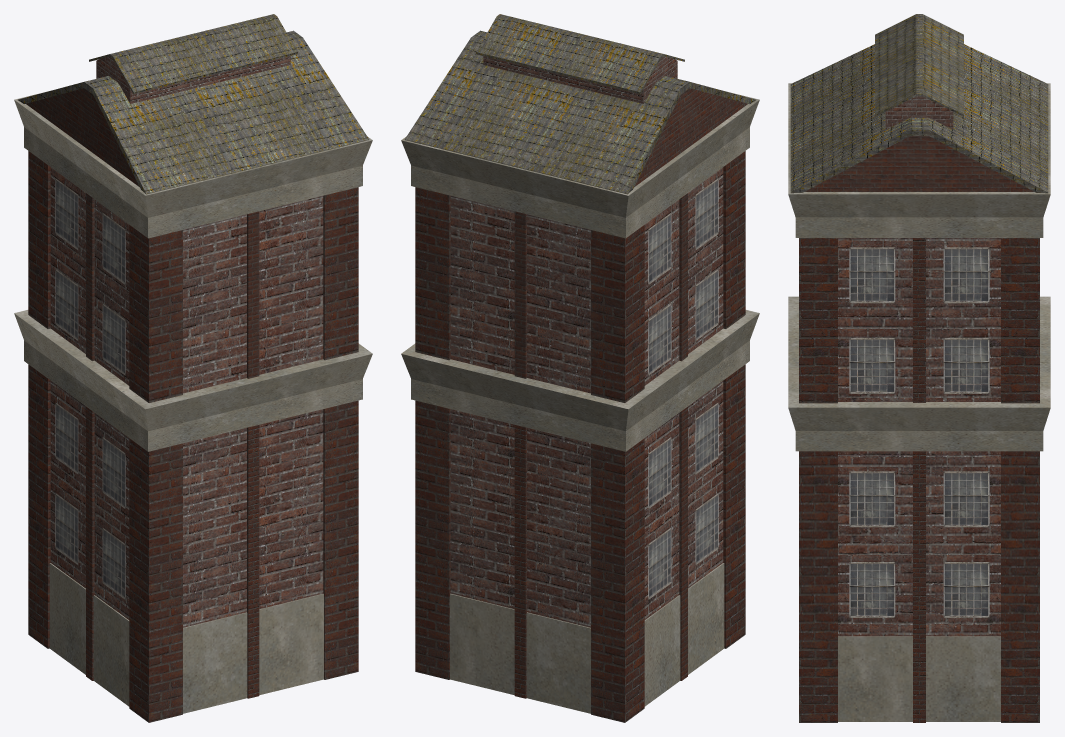
The model's file is large building.fbx.
The picture shows the model from 3 angles, left to right: view 1: azimuth 30°, elevation 25°; view 2: azimuth 150°, elevation 25°; view 3: azimuth 270°, elevation 25°; orthographic projection.
Parts seen in each view (by area): view 1: Cube.038, Cube.039, Cube.148, Cube.041, Cube.042, Cube.047, Cube.150, Cube.151, Cube.040, Cube.045, Cube.149, Cube.048 (+9 smaller); view 2: Cube.038, Cube.039, Cube.148, Cube.041, Cube.042, Cube.047, Cube.150, Cube.151, Cube.044, Cube.045, Cube.149, Cube.049 (+9 smaller); view 3: Cube.039, Cube.038, Cube.148, Cube.042, Cube.041, Cube.047, Cube.150, Cube.151, Cube.043, Plane.019, Plane.020, Plane.027 (+7 smaller).
Boxes of the visible parts, x1=… form: Cube.038: x1=50, y1=167, x2=323, y2=627; Cube.039: x1=28, y1=151, x2=358, y2=722; Cube.148: x1=18, y1=30, x2=369, y2=194; Cube.041: x1=49, y1=563, x2=323, y2=713; Cube.042: x1=14, y1=310, x2=372, y2=451; Cube.047: x1=14, y1=92, x2=372, y2=238; Cube.150: x1=89, y1=14, x2=297, y2=94; Cube.151: x1=26, y1=88, x2=139, y2=186; Cube.040: x1=247, y1=376, x2=259, y2=698; Cube.045: x1=86, y1=361, x2=94, y2=680; Cube.149: x1=96, y1=56, x2=290, y2=103; Cube.048: x1=247, y1=211, x2=259, y2=378; Cube.038: x1=450, y1=167, x2=723, y2=627; Cube.039: x1=415, y1=151, x2=745, y2=722; Cube.148: x1=404, y1=30, x2=755, y2=194; Cube.041: x1=450, y1=563, x2=724, y2=713; Cube.042: x1=401, y1=310, x2=759, y2=451; Cube.047: x1=401, y1=92, x2=759, y2=238; Cube.150: x1=476, y1=14, x2=684, y2=94; Cube.151: x1=634, y1=88, x2=747, y2=186; Cube.044: x1=514, y1=376, x2=526, y2=698; Cube.045: x1=679, y1=406, x2=687, y2=680; Cube.149: x1=483, y1=56, x2=677, y2=103; Cube.049: x1=514, y1=211, x2=526, y2=378; Cube.039: x1=799, y1=238, x2=1039, y2=722; Cube.038: x1=838, y1=238, x2=1000, y2=636; Cube.148: x1=790, y1=44, x2=1048, y2=193; Cube.042: x1=788, y1=296, x2=1050, y2=451; Cube.041: x1=838, y1=636, x2=1000, y2=721; Cube.047: x1=788, y1=83, x2=1050, y2=237; Cube.150: x1=875, y1=14, x2=963, y2=116; Cube.151: x1=805, y1=136, x2=1033, y2=191; Cube.043: x1=913, y1=451, x2=925, y2=722; Plane.019: x1=943, y1=471, x2=989, y2=527; Plane.020: x1=849, y1=471, x2=895, y2=527; Plane.027: x1=943, y1=247, x2=989, y2=303.
Bounding box in the file's own units: 1785 × 4633 × 1785.
